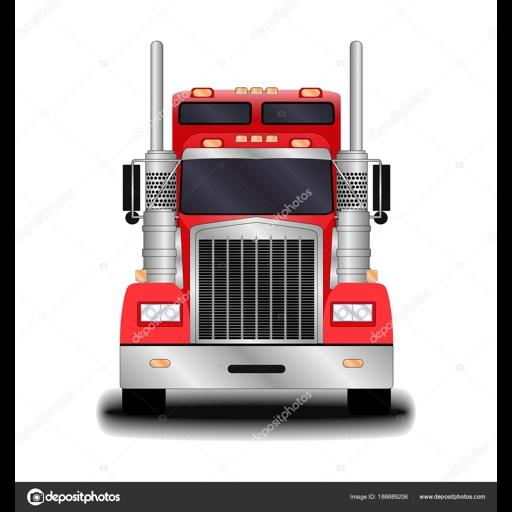truck: (96, 39, 412, 435)
